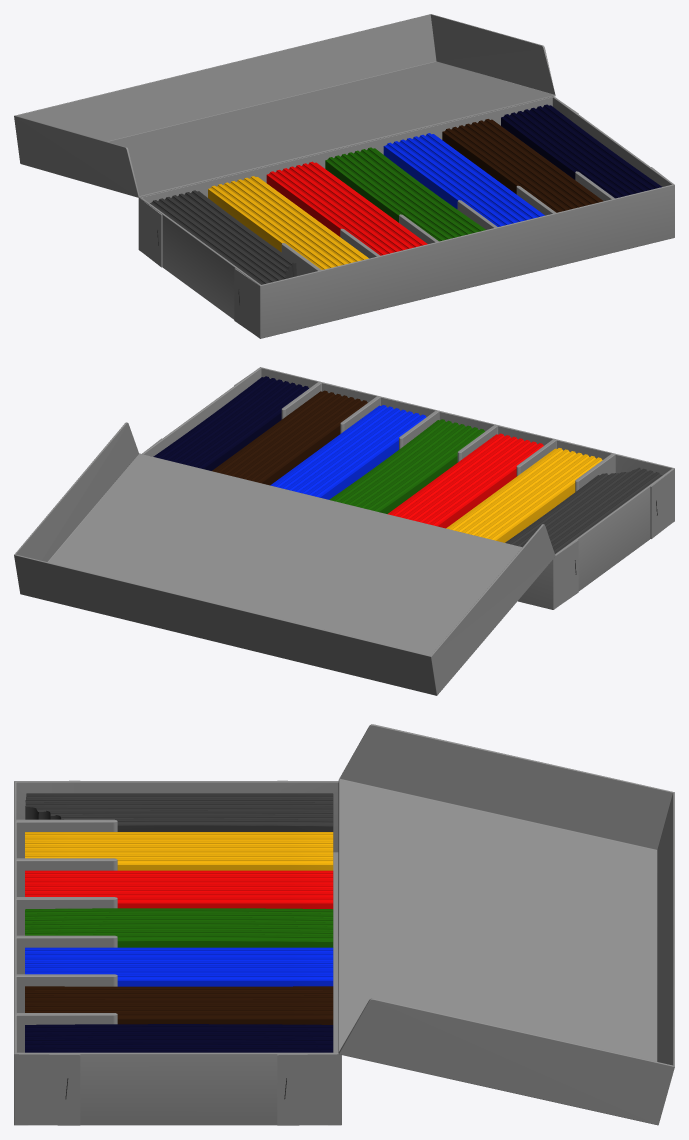
The model's file is plastilin.fbx.
3 renders of one model, top to bottom at view 1: azimuth 30°, elevation 25°; view 2: azimuth 150°, elevation 25°; view 3: azimuth 270°, elevation 25°, orthographic. The views are drawn at different scales.
Visible parts, largest first — view 1: Object001, Plane003, Box005, Box002, Box003, Box006, Box007, Box004, Box001; view 2: Object001, Plane003, Box002, Box005, Box003, Box006, Box007, Box004, Box001; view 3: Object001, Plane003, Box005, Box004, Box003, Box002, Box001, Box006, Box007.
Boxes of the visible parts, x1,y1,x2,y2 form: Object001: (14,14,555,197); Plane003: (138,96,674,338); Box005: (383,133,544,226); Box002: (208,176,368,269); Box003: (266,161,427,255); Box006: (442,119,603,212); Box007: (501,104,661,198); Box004: (325,147,485,241); Box001: (150,190,296,284); Object001: (14,422,555,695); Plane003: (142,367,674,609); Box002: (446,448,602,542); Box005: (270,405,426,499); Box003: (387,433,543,528); Box006: (212,390,367,485); Box007: (153,376,308,470); Box004: (329,419,484,513); Box001: (505,467,662,553); Object001: (338,724,674,1125); Plane003: (14,780,341,1125); Box005: (25,947,333,986); Box004: (25,908,333,947); Box003: (25,870,333,909); Box002: (25,832,333,870); Box001: (25,793,333,831); Box006: (25,986,333,1024); Box007: (25,1024,333,1052).
Size of the model in its own units: 886 by 191 by 899.
